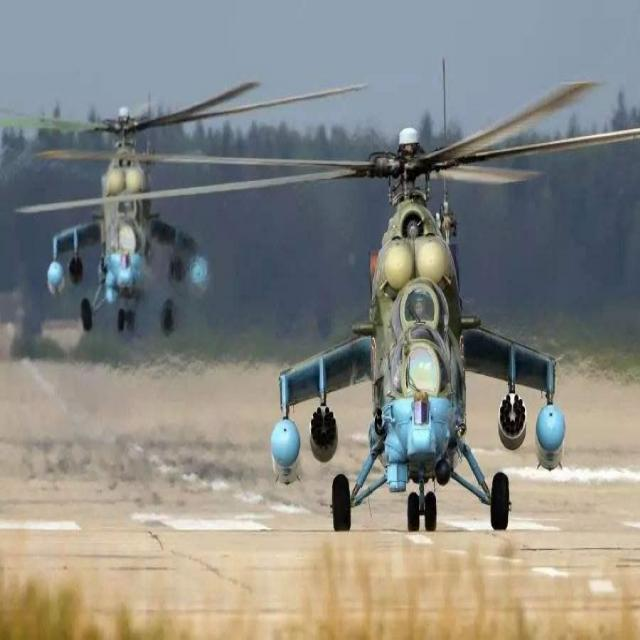MIL_HELO: (99, 76, 640, 540), (0, 73, 368, 338)
